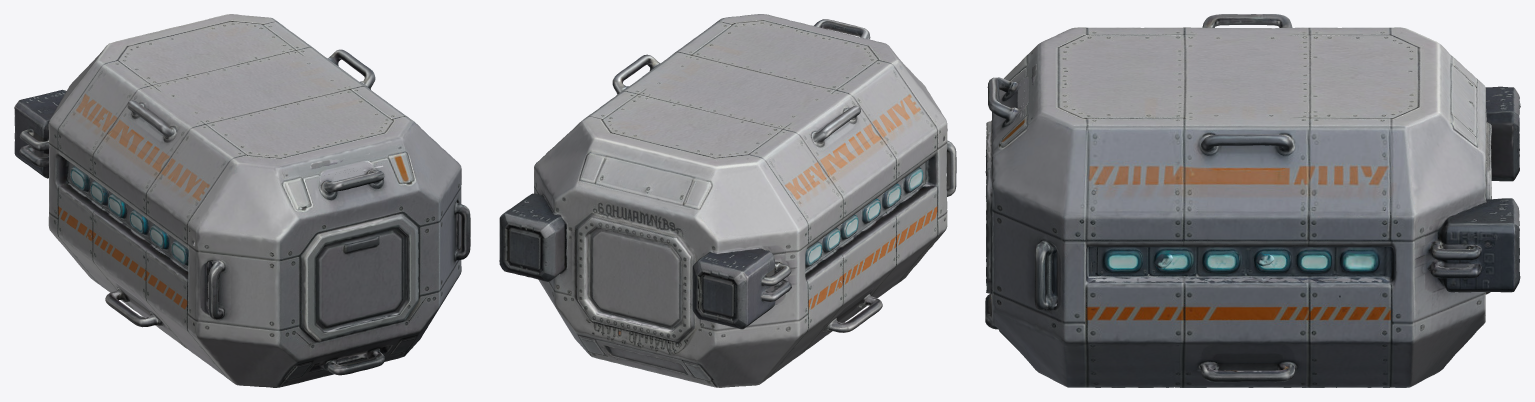
3 views of the same model, side by side, from view 1: azimuth 30°, elevation 25°; view 2: azimuth 150°, elevation 25°; view 3: azimuth 270°, elevation 25° (orthographic). The views are drawn at different scales.
Bounding box in the file's own units: 0.6915 × 0.5435 × 1.
Materials: 1 (1 with a texture image).
